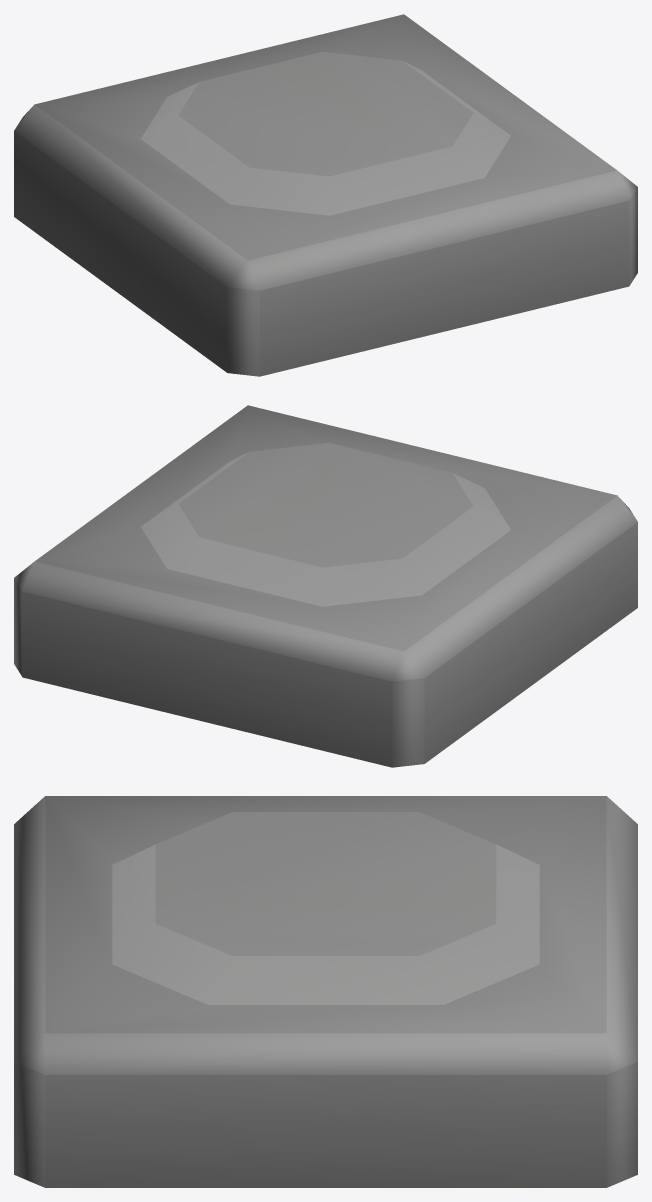
Rendered from plinth_small.fbx.
3 views of the same model, one above another, from view 1: azimuth 30°, elevation 25°; view 2: azimuth 150°, elevation 25°; view 3: azimuth 270°, elevation 25° (orthographic). The views are drawn at different scales.
Visible parts, largest first — view 1: plinth_small; view 2: plinth_small; view 3: plinth_small.
Boxes of the visible parts, box(x1,y1,x2,y2) form: plinth_small: box(14, 14, 637, 376); plinth_small: box(14, 405, 637, 767); plinth_small: box(14, 796, 637, 1187).
Size of the model in its own units: 100 by 30.42 by 100.
